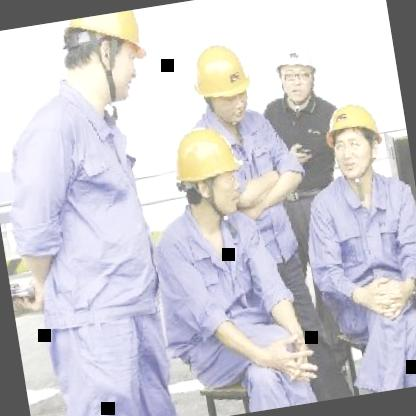helmet: (54, 8, 156, 114), (160, 119, 244, 228), (184, 32, 258, 132), (318, 90, 393, 186), (267, 26, 325, 110)
